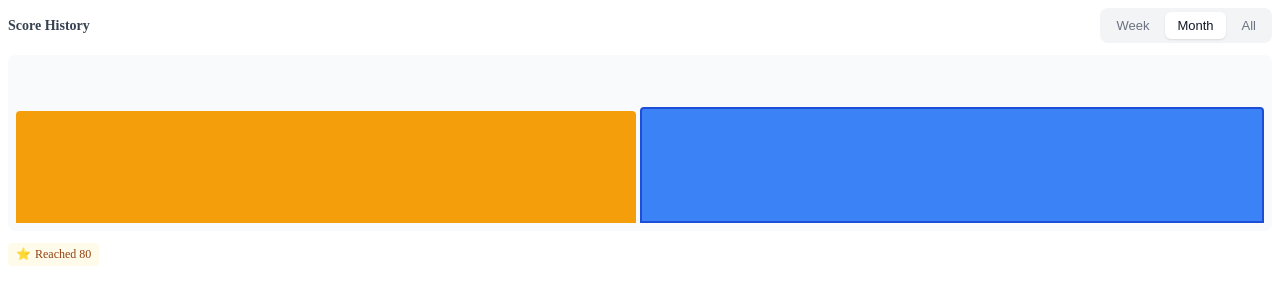
TrustScoreHistoryChart - Story 36.4 Task 2 › Hover tooltips › should show tooltip on hover
Hover over the element with test id "data-point-0" at (326, 167), box [16,111,636,223]
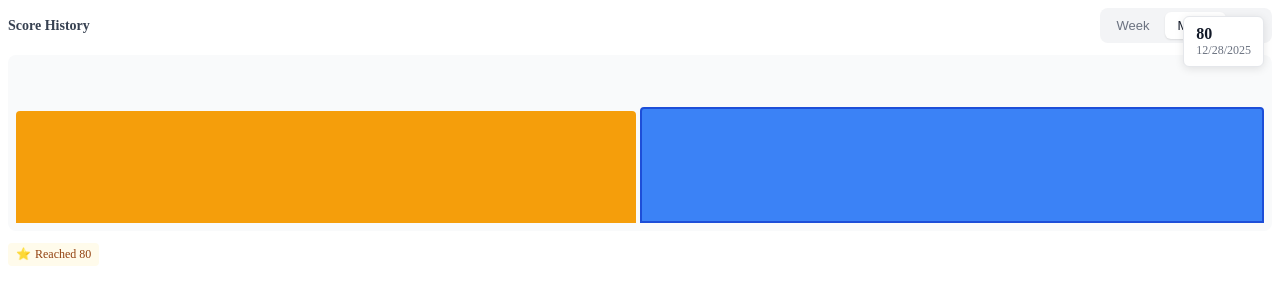
Result: the element with test id "chart-tooltip" is shown at [1183,16,1264,67]
